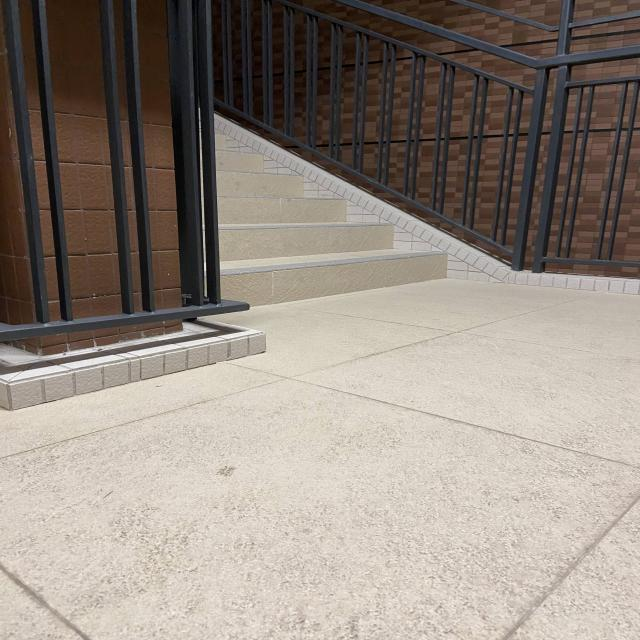Stairs: (140, 126, 459, 301)
